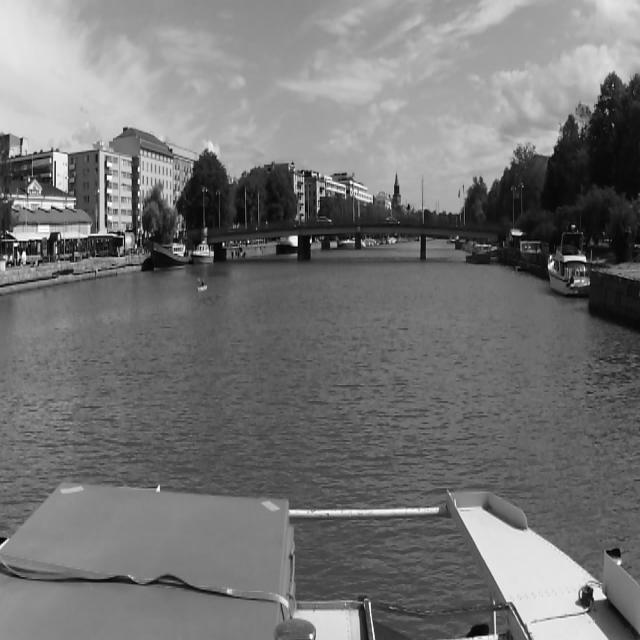ship: (548, 230, 588, 294), (152, 240, 189, 270), (193, 242, 213, 262), (198, 279, 208, 292)
